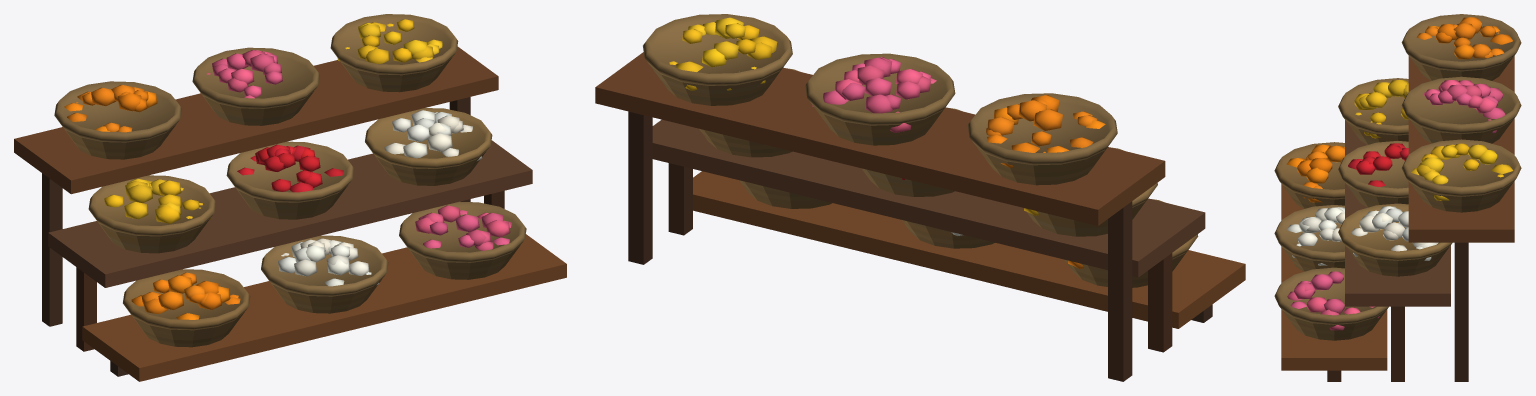
File: PRP_Display_Flowers_A.glb
3 renders of one model, left to right at view 1: azimuth 30°, elevation 25°; view 2: azimuth 150°, elevation 25°; view 3: azimuth 270°, elevation 25°, orthographic. The views are drawn at different scales.
Parts seen in each view (by area): view 1: PRP_Display_Flowers_A_Mesh; view 2: PRP_Display_Flowers_A_Mesh; view 3: PRP_Display_Flowers_A_Mesh.
Boxes of the visible parts, left/top/right/bottom form: PRP_Display_Flowers_A_Mesh: left=14, top=14, right=566, bottom=381; PRP_Display_Flowers_A_Mesh: left=595, top=14, right=1245, bottom=381; PRP_Display_Flowers_A_Mesh: left=1274, top=14, right=1521, bottom=381.
Bounding box in the file's own units: 1.3 × 0.6362 × 0.6992.
